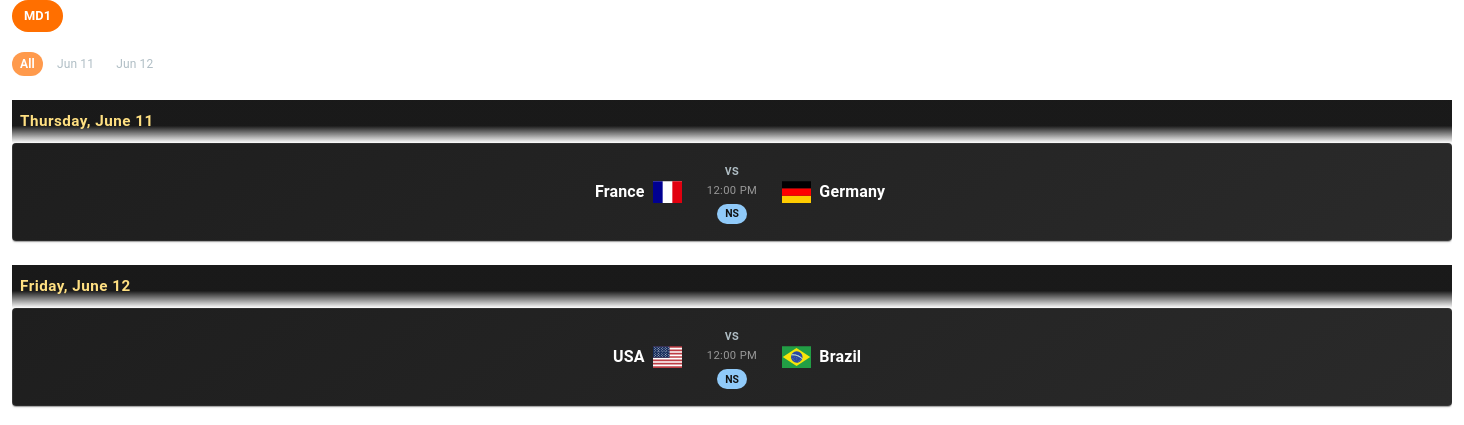
Test case: SchedulePage › date filter narrows fixtures within a round
The image size is (1464, 425).
What coordinates should you click on to do the following:
click the button "All"
I would click on:
 (27, 64)
Its box is [12,52,43,76].
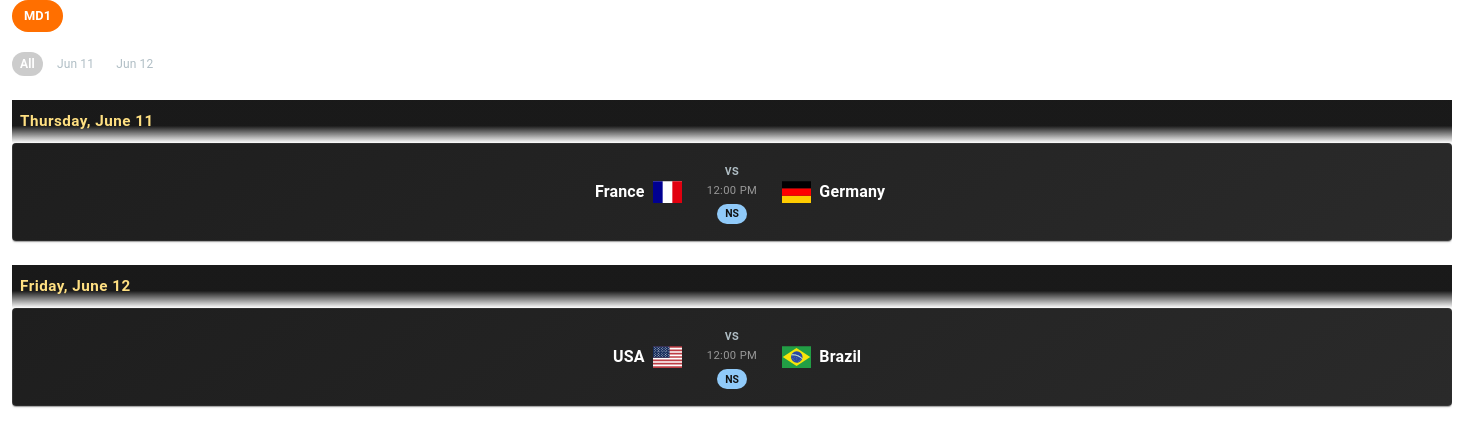
Check: the text "France" is shown, box [595,180,645,204]
Check: the text "USA" is shown, box [613,345,645,369]
What coordinates should you click on to do the following:
click the button with test id "date-chip" showing "Jun 11"
I would click on:
 (76, 64)
Its box is [49,52,102,76].
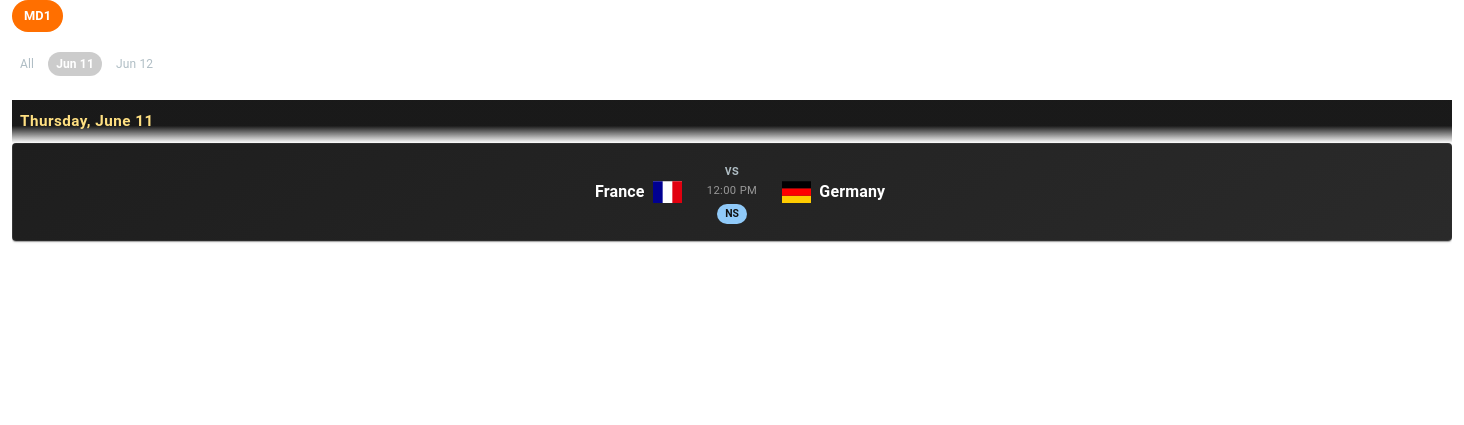
Check: the text "France" is shown, box [595,180,645,204]
Check: the button "USA" is gone
